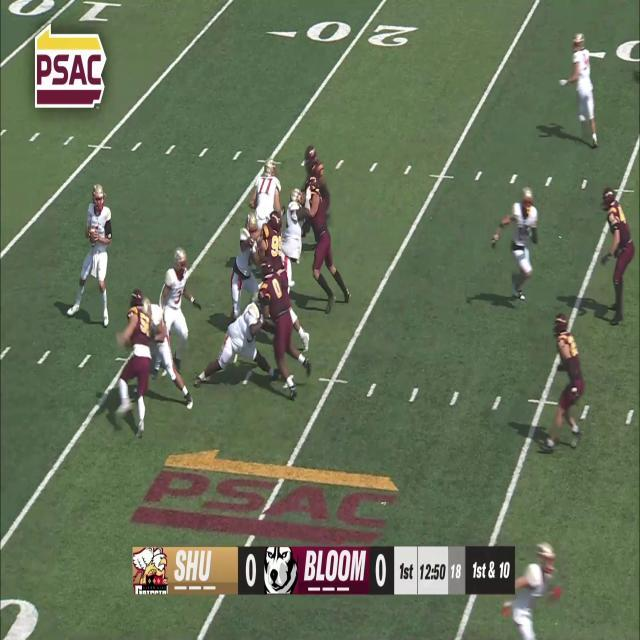football: (86, 226, 98, 246)
